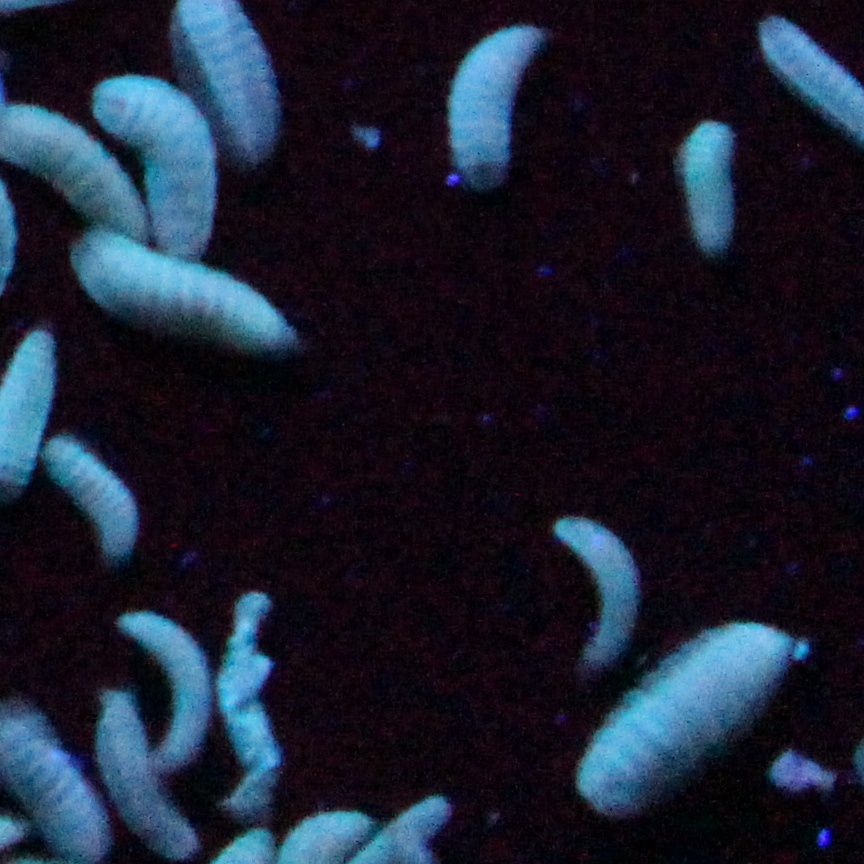larve: (582, 636, 775, 802), (75, 236, 295, 362), (115, 69, 222, 256), (462, 16, 542, 196), (555, 509, 648, 662), (135, 616, 208, 776), (48, 449, 142, 569), (233, 593, 287, 800), (675, 116, 748, 256)
